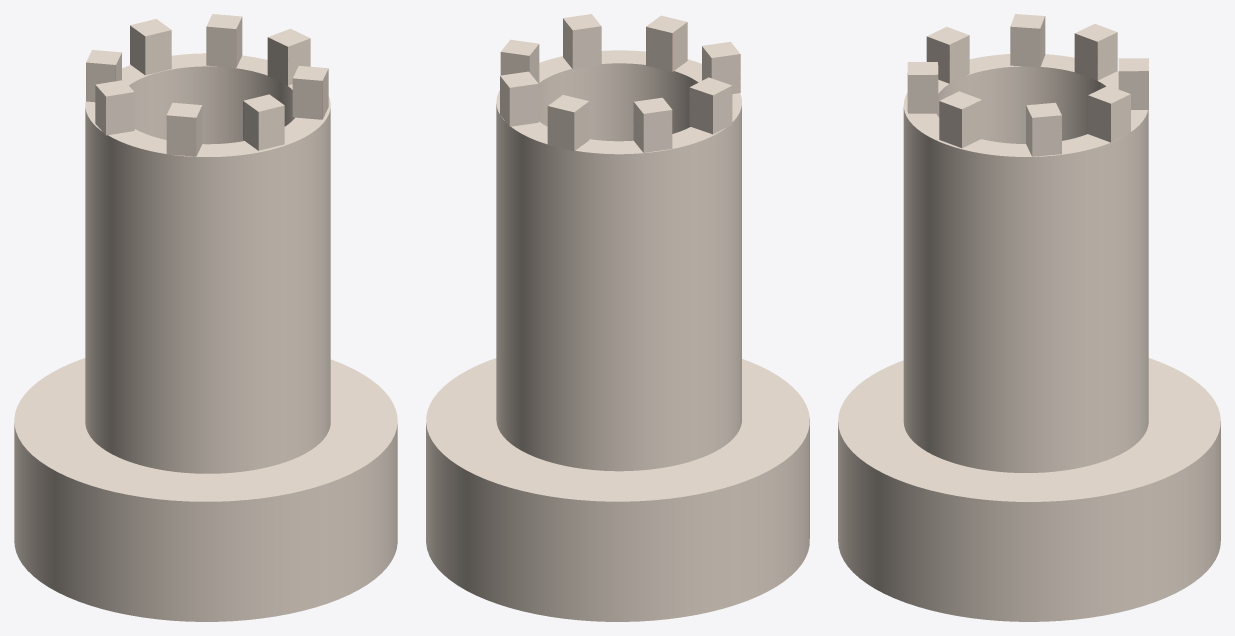
File: rook.fbx
The picture shows the model from 3 angles, left to right: view 1: azimuth 30°, elevation 25°; view 2: azimuth 150°, elevation 25°; view 3: azimuth 270°, elevation 25°; orthographic projection.
Visible parts, largest first — view 1: node_id10, node_id6, node_id26, node_id20, node_id12, node_id22, node_id24, node_id8, node_id18, node_id14; view 2: node_id10, node_id6, node_id12, node_id20, node_id26, node_id18, node_id8, node_id14, node_id24, node_id16, node_id22; view 3: node_id10, node_id6, node_id8, node_id18, node_id24, node_id22, node_id12, node_id26, node_id20, node_id14, node_id16.
Boxes of the visible parts, box(x1,y1,x2,y2) form: node_id10: box(85, 53, 330, 473); node_id6: box(14, 358, 397, 621); node_id26: box(243, 94, 284, 150); node_id20: box(130, 19, 171, 75); node_id12: box(95, 80, 134, 135); node_id22: box(267, 28, 310, 85); node_id24: box(166, 102, 202, 156); node_id8: box(292, 65, 328, 119); node_id18: box(206, 14, 242, 67); node_id14: box(86, 50, 121, 102); node_id10: box(496, 50, 741, 471); node_id6: box(426, 358, 809, 621); node_id12: box(689, 77, 732, 134); node_id20: box(547, 95, 589, 151); node_id26: box(646, 15, 687, 71); node_id18: box(500, 71, 538, 126); node_id8: box(563, 14, 601, 69); node_id14: box(634, 97, 672, 152); node_id24: box(702, 42, 740, 93); node_id16: box(633, 102, 672, 152); node_id22: box(500, 39, 539, 83); node_id10: box(903, 54, 1148, 472); node_id6: box(838, 358, 1220, 621); node_id8: box(939, 91, 981, 147); node_id18: box(1088, 85, 1130, 142); node_id24: box(926, 27, 969, 83); node_id22: box(1026, 102, 1061, 156); node_id12: box(1010, 14, 1045, 67); node_id26: box(907, 62, 938, 113); node_id20: box(1118, 58, 1148, 109); node_id14: box(1074, 24, 1117, 80); node_id16: box(1097, 32, 1117, 80).
Bounding box in the file's own units: 0.374 × 0.512 × 0.374.
11 materials, 11 textured.
